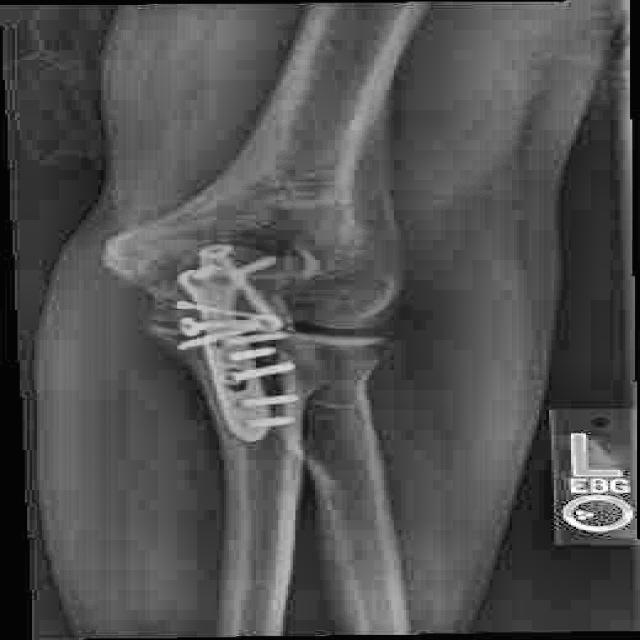elbow positive: (83, 181, 256, 304)
